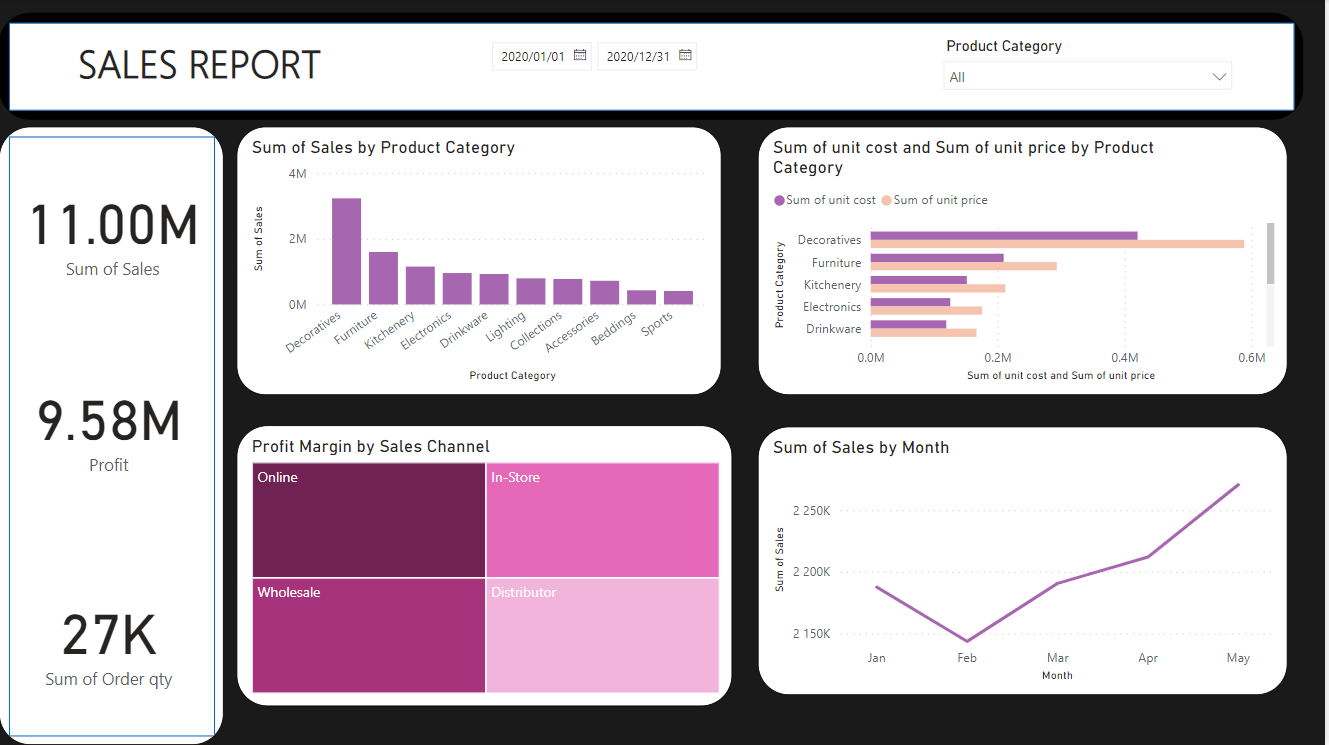

This screenshot's page, from the dashboard's own definition file:
{"tool":"powerbi","page":{"name":"Page 1","canvas":[1280,720],"ordinal":0},"visuals":[{"type":"lineChart","fields":{"Y":["Sum(Sales.Sales)"],"Category":["Dates.Month"]},"box":[732.1,412.5,511.4,259.3],"z":0},{"type":"clusteredColumnChart","fields":{"Y":["Sum(Sales.Sales)"],"Category":["Products.Product Category"]},"box":[229.1,123,467.9,259.3],"z":1000},{"type":"clusteredBarChart","fields":{"Category":["Products.Product Category"],"Y":["Sum(Sales.unit cost)","Sum(Sales.unit price)"]},"box":[732.1,123,511.4,259.3],"z":2000},{"type":"treemap","fields":{"Group":["Sales.Sales Channel"],"Values":["Sales.Profit Margin"]},"box":[229.1,411.3,478.8,271.4],"z":3000},{"type":"shape","box":[0,13.7,1258.3,102.9],"z":4000},{"type":"shape","box":[0,123.5,216.8,596.9],"z":5000},{"type":"textbox","box":[71.4,31.6,256.6,67.2],"z":6000},{"type":"card","fields":{"Values":["Sum(Sales.Sales)"]},"box":[15.1,145.5,188,150.9],"z":7000},{"type":"card","fields":{"Values":["Sales.Profit"]},"box":[12.3,334.8,188,150.9],"z":8000},{"type":"card","fields":{"Values":["Sum(Sales.Order qty)"]},"box":[12.3,542,188,150.9],"z":9000},{"type":"slicer","fields":{"Values":["Dates.Date"]},"box":[463.1,31.4,299.1,67.5],"z":10000},{"type":"slicer","fields":{"Values":["Products.Product Category"]},"box":[900.9,31.4,299.1,67.5],"z":11000}]}

Visuals, with their boxes in screenshot pixels (x1, y1, x2, y2), scaled from the page's 1280x720 canvas onto the 1329x745 screenshot:
lineChart - Sum(Sales.Sales) x Dates.Month: (760, 427, 1291, 695)
clusteredColumnChart - Sum(Sales.Sales) x Products.Product Category: (238, 127, 724, 396)
clusteredBarChart - Products.Product Category x Sum(Sales.unit cost): (760, 127, 1291, 396)
treemap - Sales.Sales Channel x Sales.Profit Margin: (238, 426, 735, 706)
shape: (0, 14, 1306, 121)
shape: (0, 128, 225, 744)
textbox: (74, 33, 341, 102)
card - Sum(Sales.Sales): (16, 151, 211, 307)
card - Sales.Profit: (13, 346, 208, 503)
card - Sum(Sales.Order qty): (13, 561, 208, 717)
slicer - Dates.Date: (481, 32, 791, 102)
slicer - Products.Product Category: (935, 32, 1246, 102)
